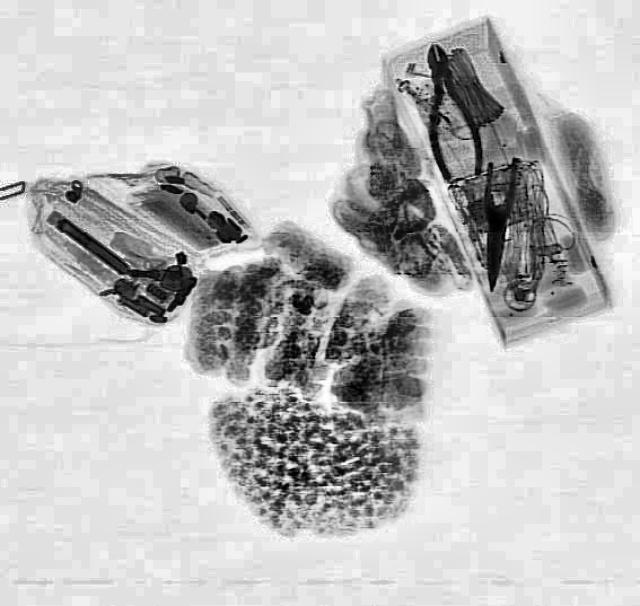Pliers: (406, 38, 488, 180), (472, 154, 518, 293)
